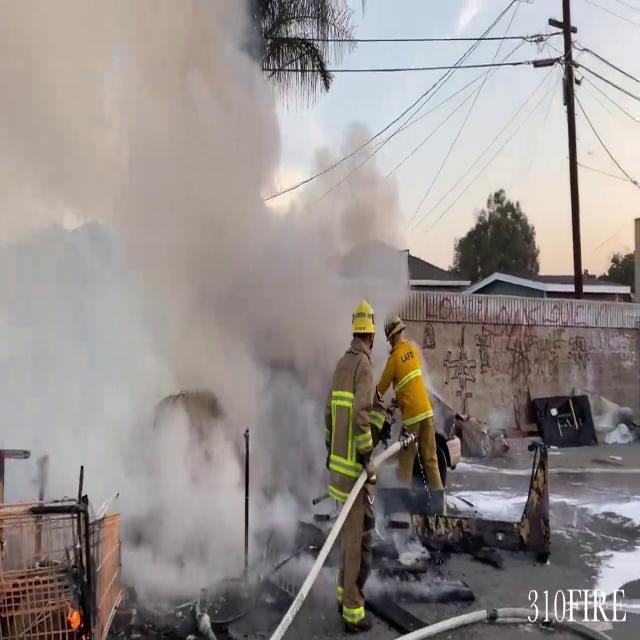Fire: (65, 594, 85, 636)
Smoke: (0, 0, 414, 575)
